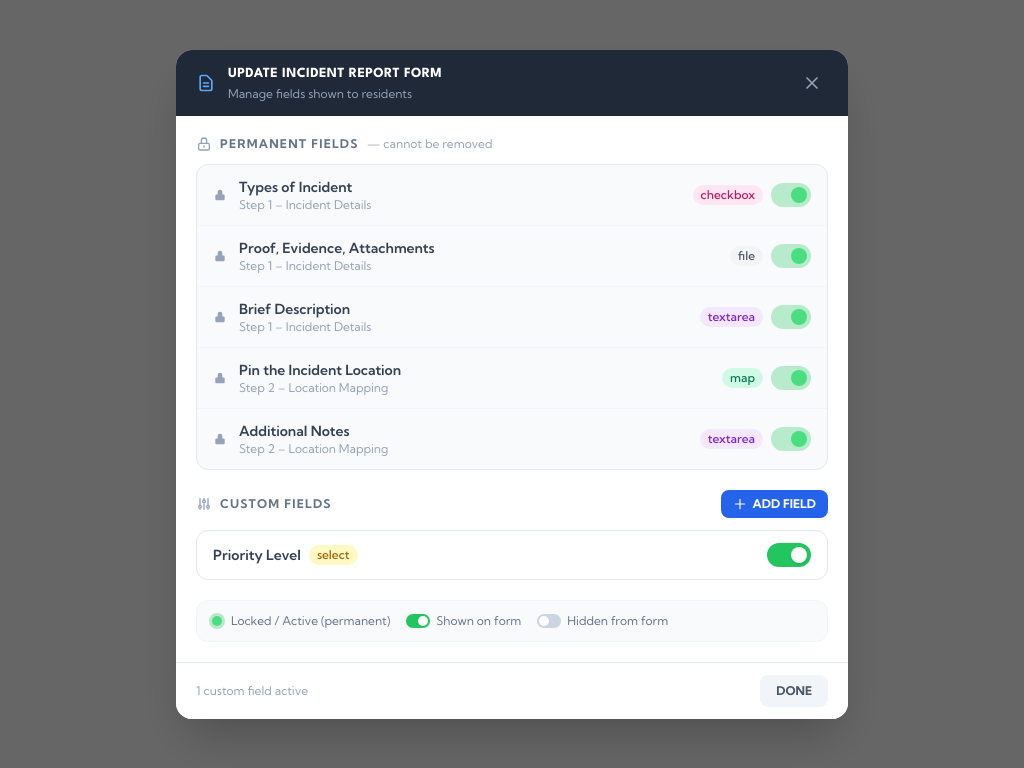
add new field › shows a save error when createCustomField fails
Check: the text "Priority Level" is shown, box [213,544,301,564]
Click the button "Add Field".
click(774, 504)  # box [721,490,828,518]
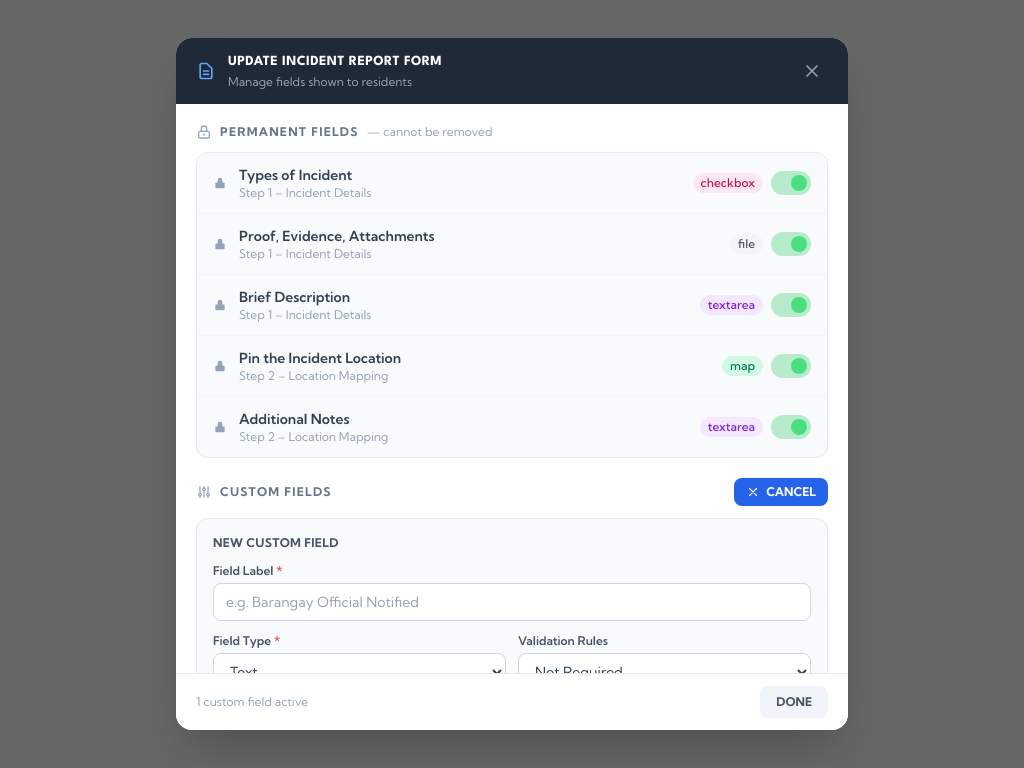
Type "Notes" into the field with placeholder "e.g. Barangay Official Notified".
click(512, 602); type("Notes")  # box [213,583,811,621]
(page scrolled)
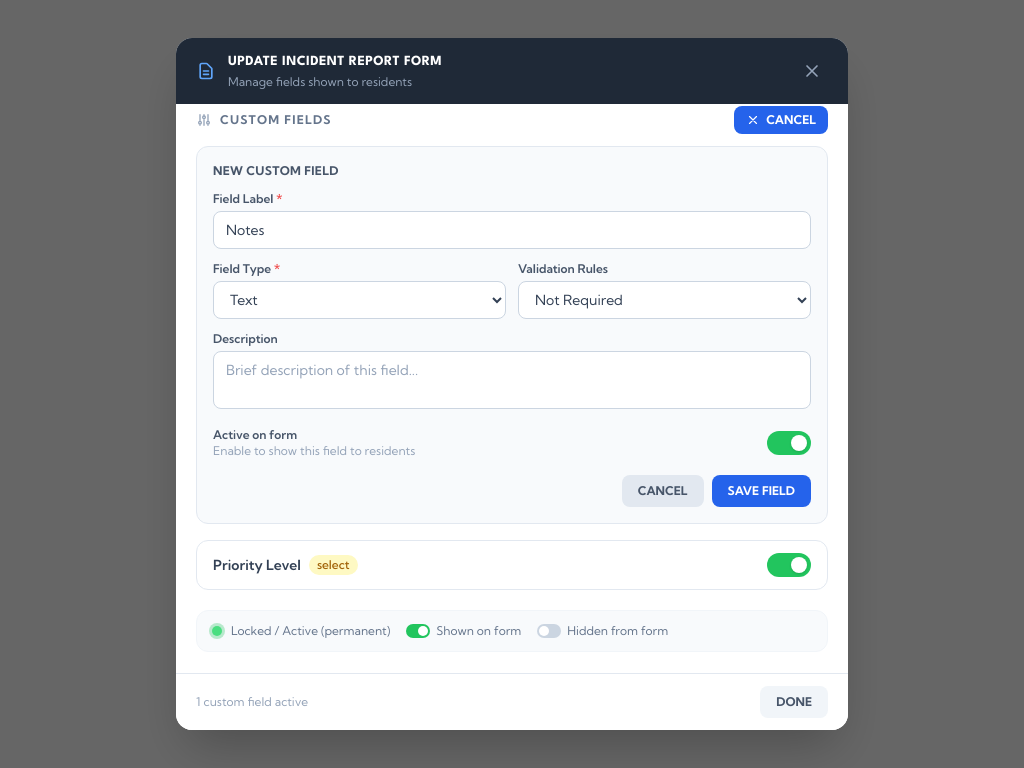
Click the button "Save Field".
click(761, 491)  # box [712,475,811,507]
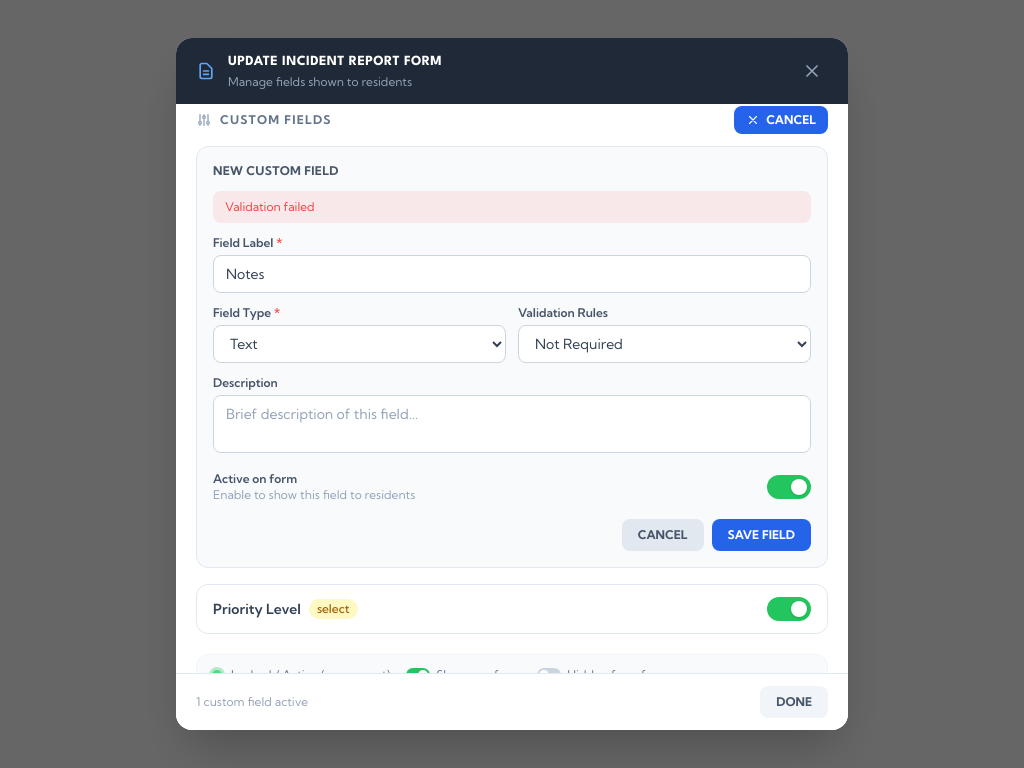
Check: the text "Validation failed" is shown, box [213,191,811,223]
